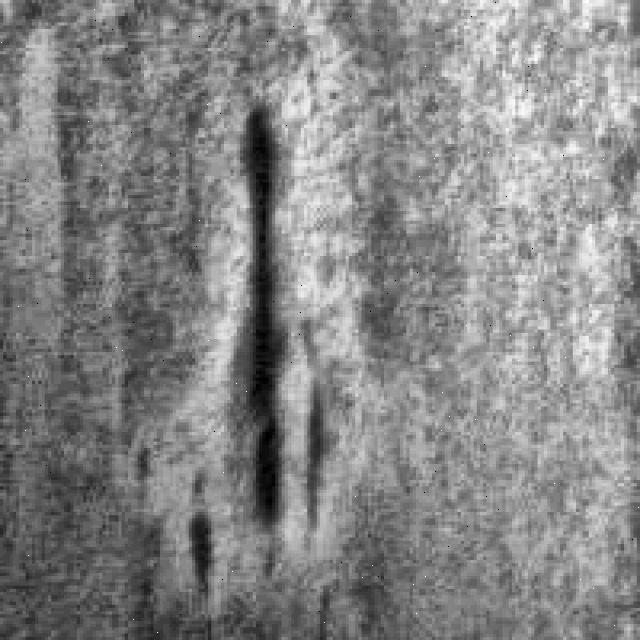Patches: (218, 96, 356, 544)
